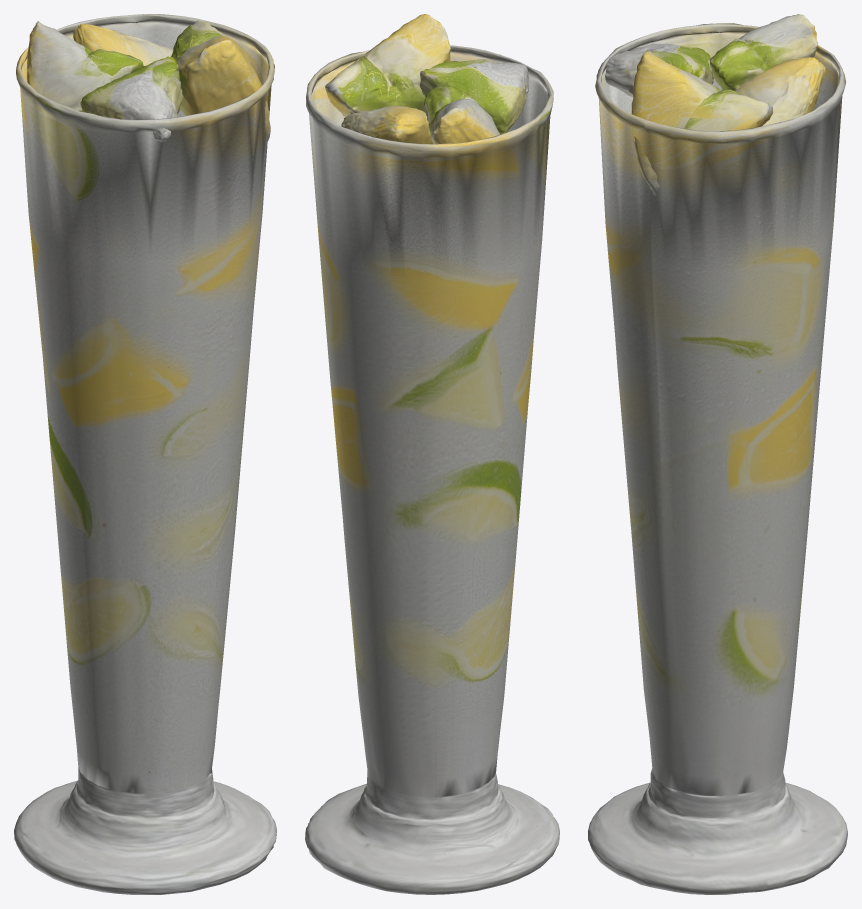
Rendered from limonada.fbx.
3 renders of one model, left to right at view 1: azimuth 30°, elevation 25°; view 2: azimuth 150°, elevation 25°; view 3: azimuth 270°, elevation 25°, orthographic. The views are drawn at different scales.
Parts seen in each view (by area): view 1: meshes[0]; view 2: meshes[0]; view 3: meshes[0].
Boxes of the visible parts, left/top/right/bottom form: meshes[0]: left=14, top=14, right=276, bottom=894; meshes[0]: left=305, top=14, right=559, bottom=894; meshes[0]: left=588, top=14, right=847, bottom=894.
Size of the model in its own units: 29.49 by 99.8 by 29.1.
Materials: 1 (1 with a texture image).
